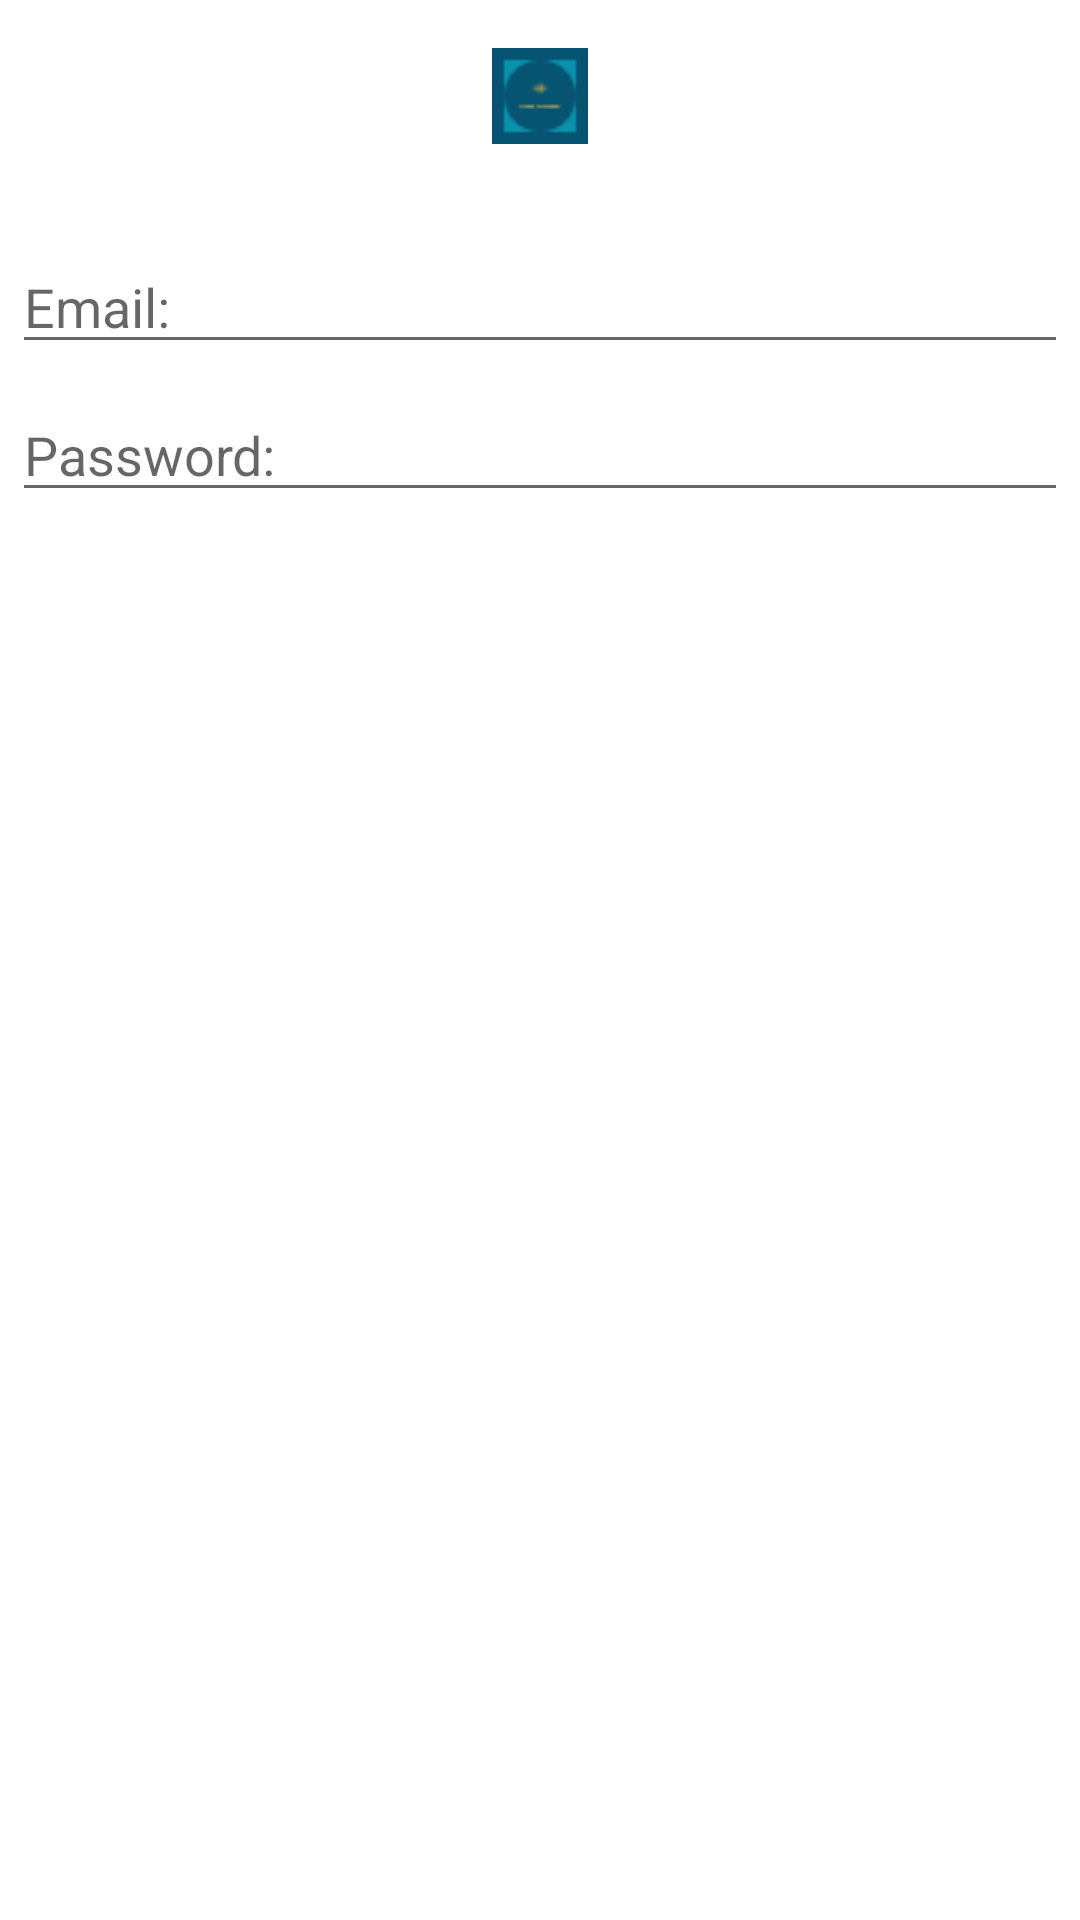

Named icons in this screenshot (1080px×1920px) and their centers, [x,y]:
favicon: [540,96]
